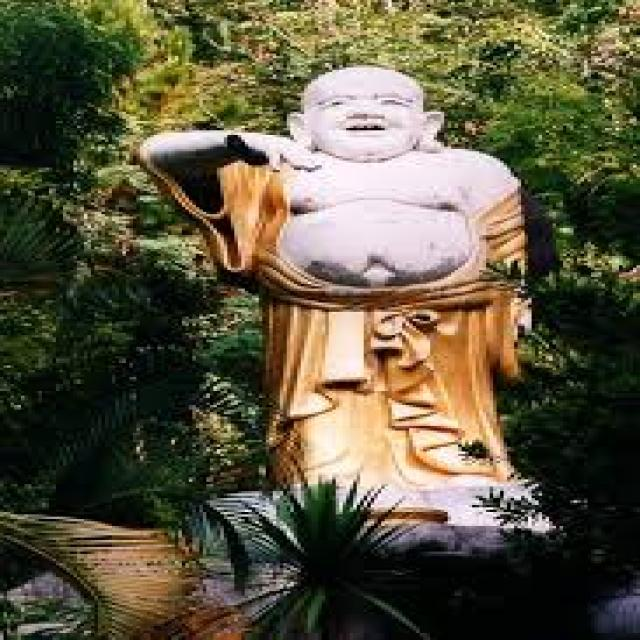Smiling Buddha: (182, 63, 535, 485)
